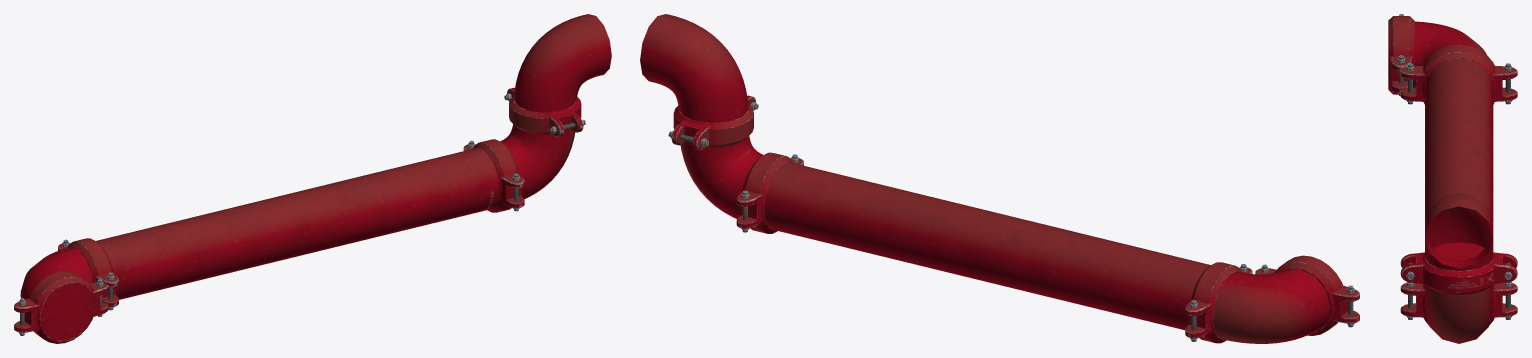
The model's file is SM_Pipe_Module_01c.fbx.
The picture shows the model from 3 angles, left to right: view 1: azimuth 30°, elevation 25°; view 2: azimuth 150°, elevation 25°; view 3: azimuth 270°, elevation 25°; orthographic projection. The views are drawn at different scales.
Visible parts, largest first — view 1: SM_Pipe_Module_01c; view 2: SM_Pipe_Module_01c; view 3: SM_Pipe_Module_01c.
Part boxes in pixels (x1,y1,x2,y2): SM_Pipe_Module_01c: [14, 14, 611, 343]; SM_Pipe_Module_01c: [640, 14, 1359, 343]; SM_Pipe_Module_01c: [1388, 14, 1517, 343].
Bounding box in the file's own units: 179 × 30.21 × 47.24.
1 material, 1 textured.
